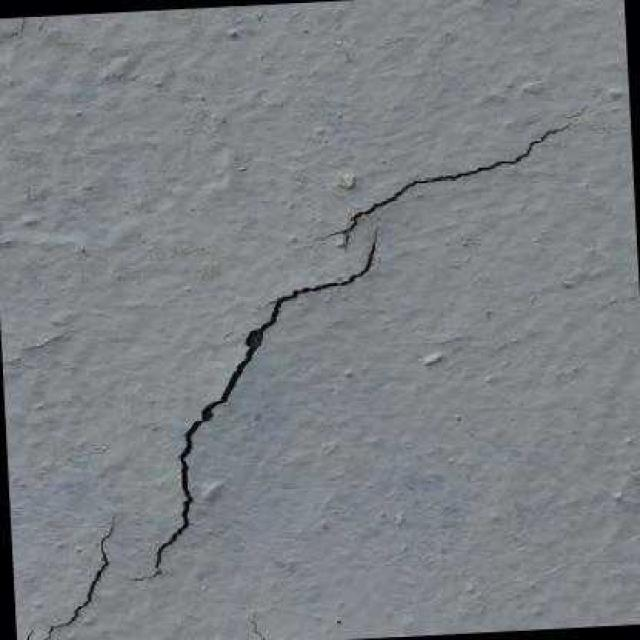D00: (119, 229, 377, 580), (319, 124, 568, 244), (44, 520, 115, 639), (22, 627, 34, 640)
